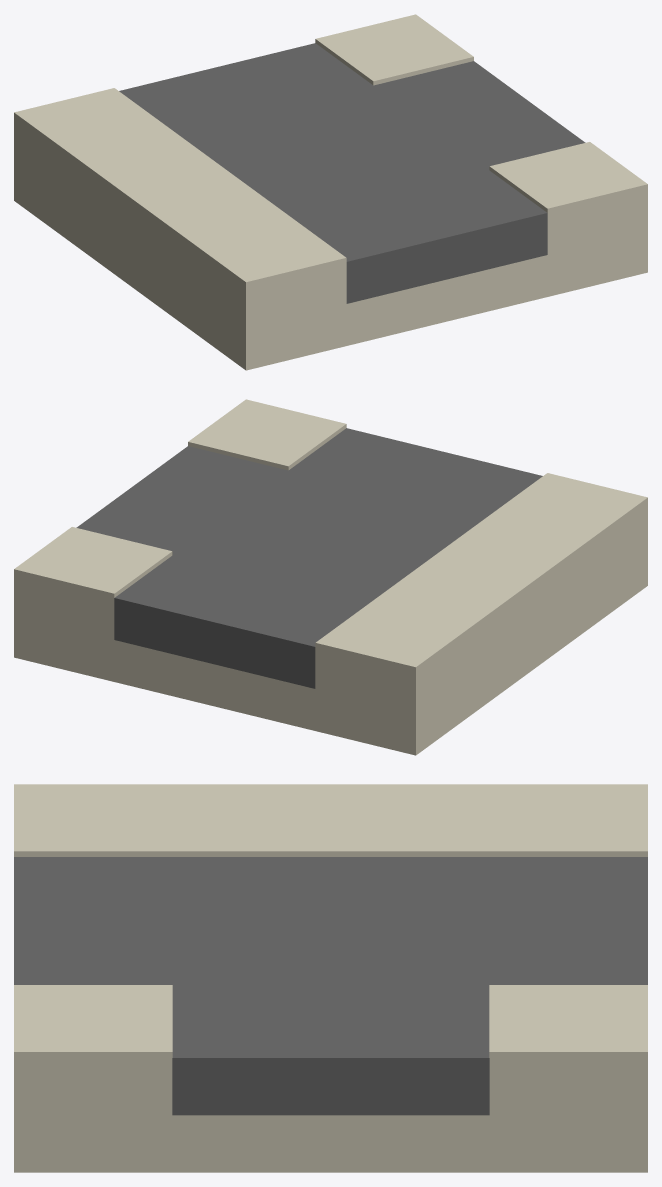
File: roadTile_291.obj
3 renders of one model, top to bottom at view 1: azimuth 30°, elevation 25°; view 2: azimuth 150°, elevation 25°; view 3: azimuth 270°, elevation 25°, orthographic. The views are drawn at different scales.
Visible parts, largest first — view 1: roadTile_291; view 2: roadTile_291; view 3: roadTile_291.
Part boxes in pixels (box(x1,y1,x2,y2)): roadTile_291: box(14, 14, 647, 370); roadTile_291: box(14, 399, 647, 755); roadTile_291: box(14, 784, 647, 1172).
Bounding box in the file's own units: 3 × 0.63 × 3.
